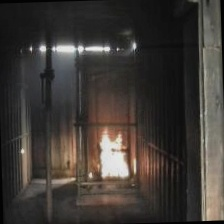fire: (93, 126, 139, 187)
